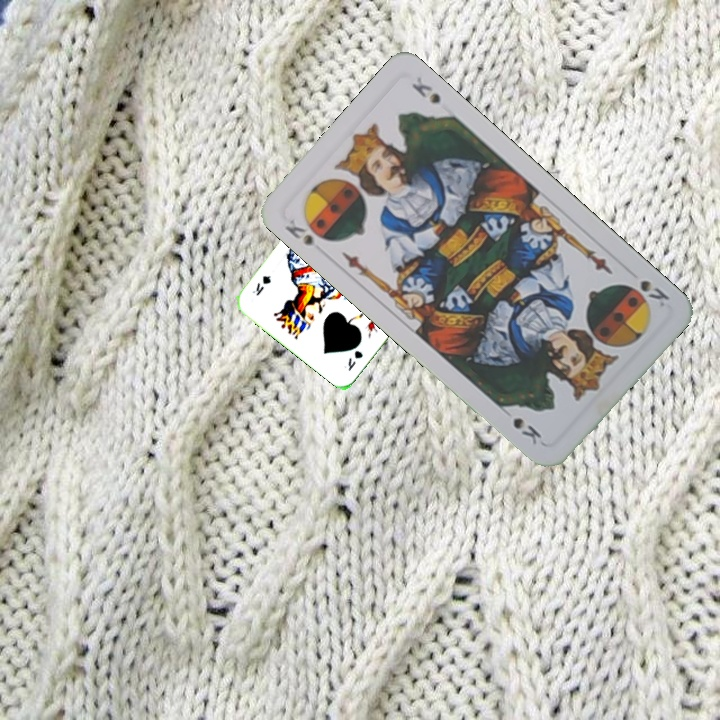GK: (344, 346, 366, 373)
SK: (280, 215, 317, 249), (636, 276, 672, 310)
